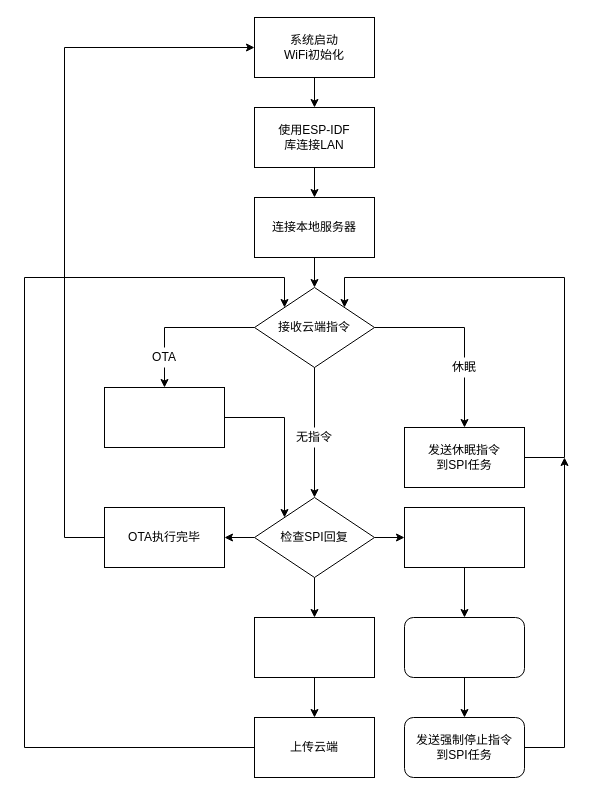
Some shapes in this 590 by 795 pixel diagram are drawn without their labels. Here are the shapes that lost their labels. From the top down, the centre of each, then its label:
At [164,417]: "发送OTA指令 到SPI任务".
At [464,537]: "出错".
At [314,647]: "收到人脸识别数据".
At [464,647]: "上传出错日志".
